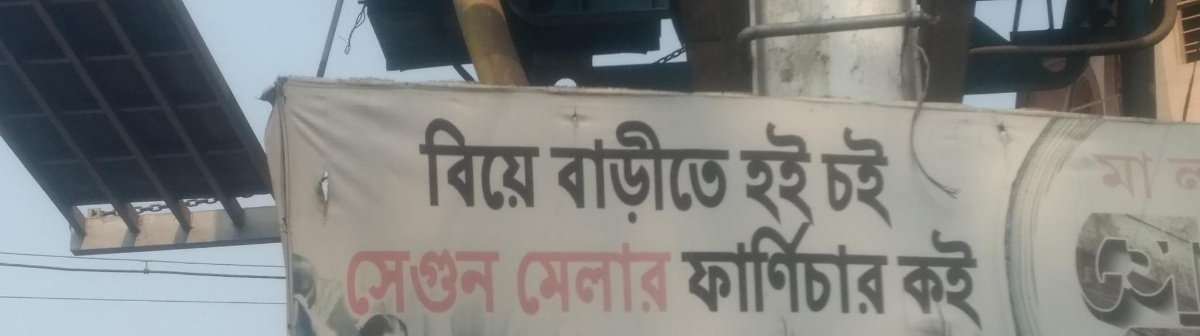text: (1073, 211, 1088, 330), (1089, 211, 1104, 330), (1105, 211, 1120, 330), (1121, 211, 1136, 330), (1137, 211, 1152, 330), (1153, 211, 1168, 330), (1169, 211, 1184, 330), (1185, 211, 1199, 330), (833, 122, 848, 232), (849, 122, 864, 232), (865, 122, 880, 232), (897, 228, 912, 335), (913, 228, 928, 335), (929, 228, 944, 335), (945, 228, 960, 335), (961, 228, 976, 335), (561, 120, 576, 226), (577, 120, 592, 226), (593, 120, 608, 226), (609, 120, 624, 226), (625, 120, 640, 226), (641, 120, 656, 226), (657, 120, 672, 226), (673, 120, 688, 226), (689, 120, 704, 226), (705, 120, 720, 226), (753, 121, 768, 225), (769, 121, 784, 225), (785, 121, 800, 225), (801, 121, 816, 225), (818, 122, 832, 232), (881, 122, 895, 232), (433, 115, 448, 212), (449, 115, 464, 212), (465, 115, 480, 212), (481, 115, 496, 212), (497, 115, 512, 212), (513, 115, 528, 212), (689, 221, 704, 317), (705, 221, 720, 317), (721, 221, 736, 317), (737, 221, 752, 317), (753, 221, 768, 317), (769, 221, 784, 317), (785, 221, 800, 317), (801, 221, 816, 317), (817, 221, 832, 317), (833, 221, 848, 317), (849, 221, 864, 317), (865, 221, 880, 317), (721, 120, 733, 226), (419, 115, 432, 212), (529, 237, 544, 316), (545, 237, 560, 316), (561, 237, 576, 316), (577, 237, 592, 316), (593, 237, 608, 316), (609, 237, 624, 316), (625, 237, 640, 316), (641, 237, 656, 316), (657, 237, 672, 316), (529, 115, 541, 212), (741, 121, 752, 225), (550, 120, 560, 226), (353, 248, 368, 317), (369, 248, 384, 317), (385, 248, 400, 317), (401, 248, 416, 317), (417, 248, 432, 317), (433, 248, 448, 317), (449, 248, 464, 317), (465, 248, 480, 317), (481, 248, 496, 317), (881, 221, 891, 317), (1105, 147, 1120, 205), (1121, 147, 1136, 205), (1137, 147, 1152, 205), (977, 228, 985, 335), (1090, 147, 1104, 205), (518, 237, 528, 316), (681, 221, 688, 317), (1153, 147, 1163, 205), (1169, 158, 1184, 189), (1185, 158, 1199, 189), (817, 121, 821, 225), (346, 248, 352, 317), (497, 248, 501, 317), (1070, 211, 1072, 330), (895, 228, 896, 335), (673, 237, 674, 316)
